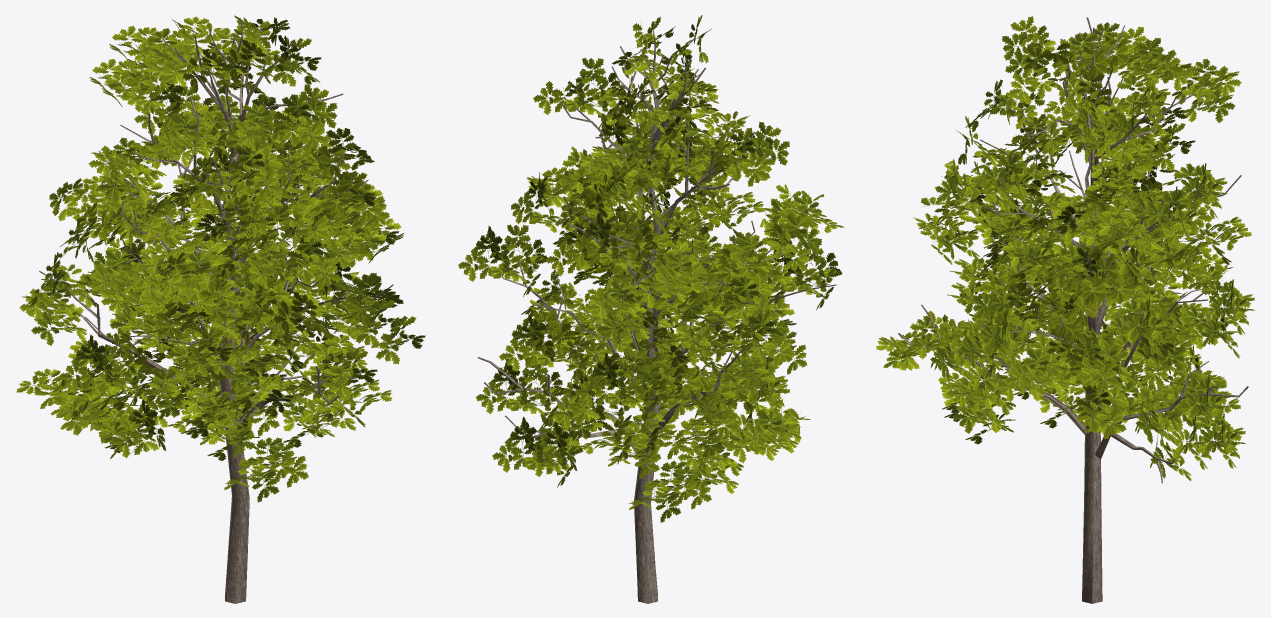
File: oak-tree.fbx
3 views of the same model, side by side, from view 1: azimuth 30°, elevation 25°; view 2: azimuth 150°, elevation 25°; view 3: azimuth 270°, elevation 25° (orthographic). The views are drawn at different scales.
Visible parts, largest first — view 1: Leaf Oak, Leaf Oak2, Wood - Bark; view 2: Leaf Oak, Leaf Oak2, Wood - Bark; view 3: Leaf Oak, Leaf Oak2, Wood - Bark.
Part boxes in pixels (box(x1,y1,x2,y2)): Leaf Oak: box(16, 16, 416, 490); Leaf Oak2: box(31, 15, 425, 502); Wood - Bark: box(39, 18, 393, 603); Leaf Oak: box(458, 15, 844, 509); Leaf Oak2: box(474, 16, 840, 522); Wood - Bark: box(478, 38, 836, 603); Leaf Oak: box(876, 16, 1254, 481); Leaf Oak2: box(910, 22, 1255, 478); Wood - Bark: box(898, 17, 1248, 603).
Size of the model in its own units: 5.87 by 9.35 by 5.64.
3 materials, 3 textured.
